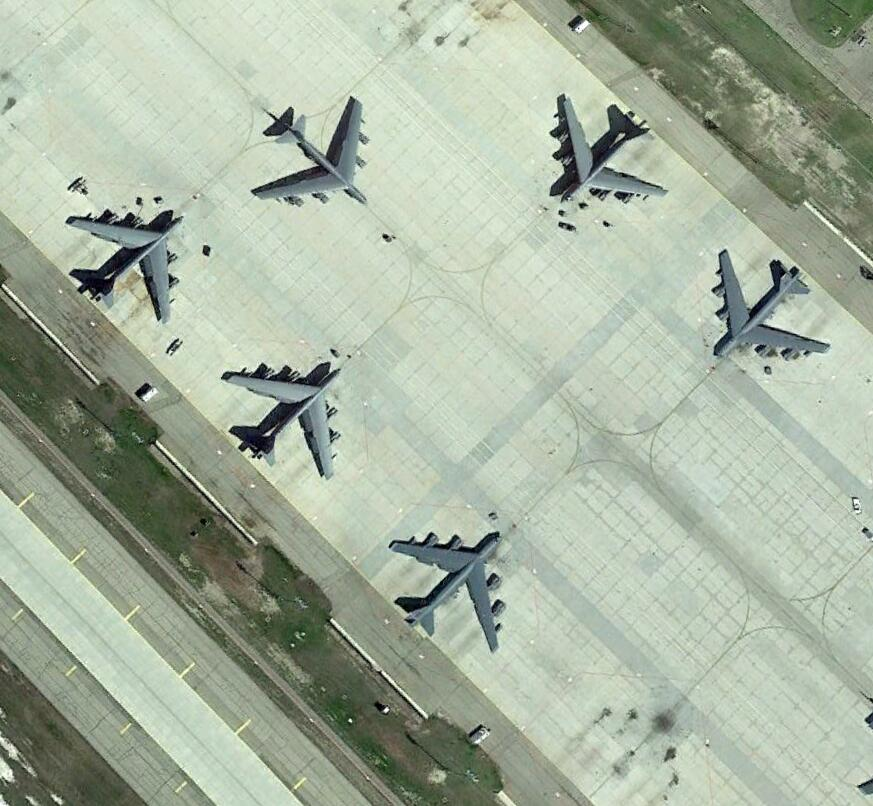A8: (545, 92, 672, 220), (219, 350, 345, 479), (386, 523, 504, 658), (702, 245, 833, 366), (63, 199, 187, 324), (251, 96, 373, 211)
